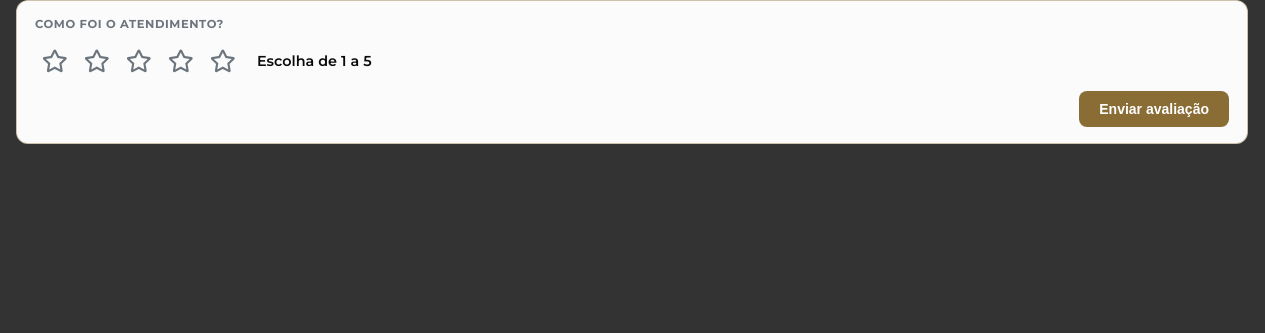
it: Avaliação do atendimento › mostra o erro do servidor
Step 1. Click the radio button named "1 de 5 — Muito ruim" → (55, 61), box [35,41,75,81]
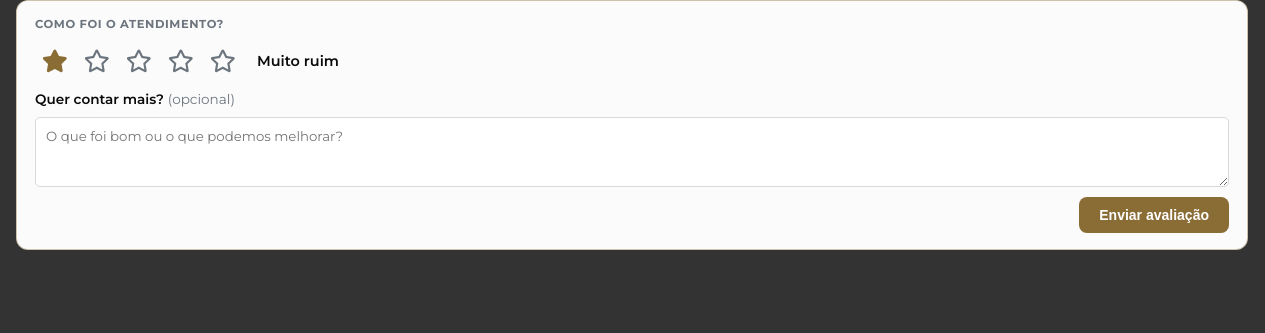
Step 2. Click the button "Enviar avaliação" → (1154, 215), box [1079,197,1229,233]
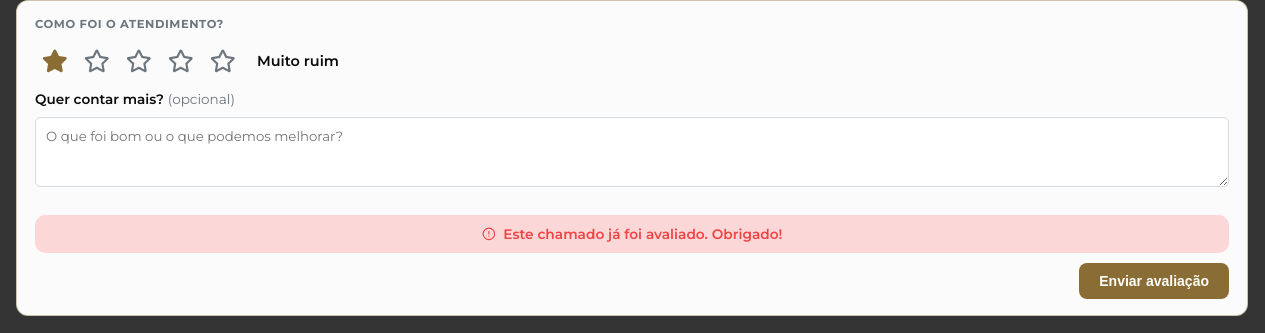
Now the message shows "já foi avaliado", box [503,226,782,242]
